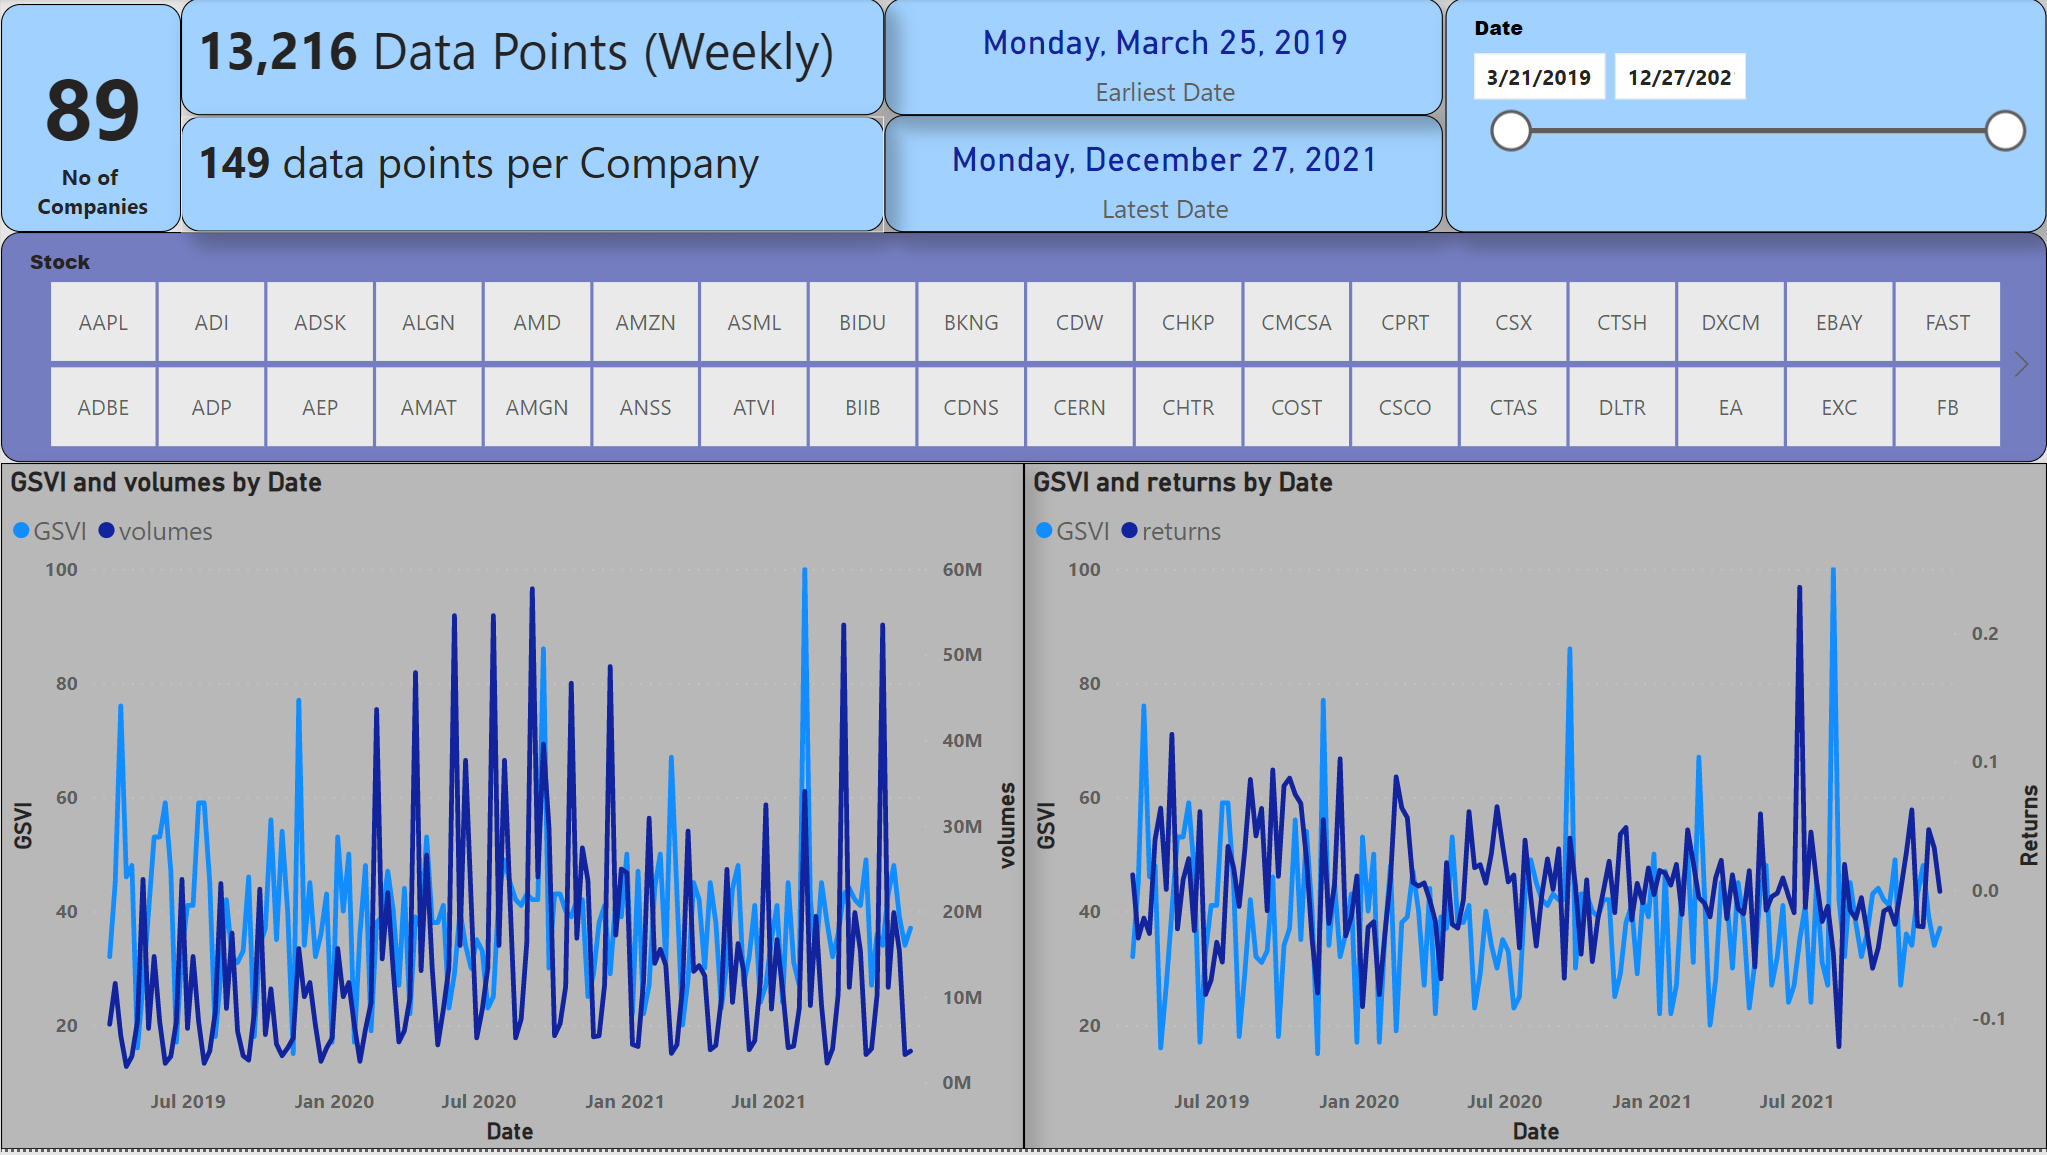

The dashboard page shown, as its layout file describes it:
{"tool":"powerbi","page":{"name":"Dataset","canvas":[1280,720],"ordinal":0},"visuals":[{"type":"slicer","fields":{"Values":["Companies.Company"]},"box":[0,146.4,1280,144],"z":0},{"type":"card","fields":{"Values":["Max(dataset_FM.Date)"]},"box":[553,73.2,349.1,73.2],"z":1000},{"type":"actionButton","box":[0,0,100,40],"z":2000},{"type":"card","fields":{"Values":["Min(dataset_FM.Date)"]},"box":[553,0,349.1,73.2],"z":3000},{"type":"lineChart","fields":{"Category":["dataset_FM.Date"],"Y2":["Sum(dataset_FM.volumes)"],"Y":["Sum(dataset_FM.GSVI)"]},"box":[0,290.5,640,429.5],"z":4000},{"type":"slicer","fields":{"Values":["dataset_FM.Date"]},"box":[903.7,0,376.1,146.5],"z":5000},{"type":"lineChart","fields":{"Category":["dataset_FM.Date"],"Y":["Sum(dataset_FM.GSVI)"],"Y2":["Sum(dataset_FM.returns)"]},"box":[640,290.5,640,429.5],"z":6000},{"type":"textbox","box":[0,3.6,112.8,142.8],"z":7000},{"type":"textbox","box":[112.8,0,440.3,73.2],"z":8000},{"type":"textbox","box":[112.8,74.4,440.3,72],"z":9000}]}

Visuals, with their boxes in screenshot pixels (x1, y1, x2, y2), scaled from the page's 1280x720 canvas onto the 2047x1155 screenshot:
slicer - Companies.Company: bbox(0, 235, 2046, 466)
card - Max(dataset_FM.Date): bbox(884, 117, 1443, 235)
actionButton: bbox(0, 0, 160, 64)
card - Min(dataset_FM.Date): bbox(884, 0, 1443, 117)
lineChart - dataset_FM.Date x Sum(dataset_FM.volumes): bbox(0, 466, 1024, 1154)
slicer - dataset_FM.Date: bbox(1445, 0, 2046, 235)
lineChart - dataset_FM.Date x Sum(dataset_FM.GSVI): bbox(1024, 466, 2046, 1154)
textbox: bbox(0, 6, 180, 235)
textbox: bbox(180, 0, 885, 117)
textbox: bbox(180, 119, 885, 235)
